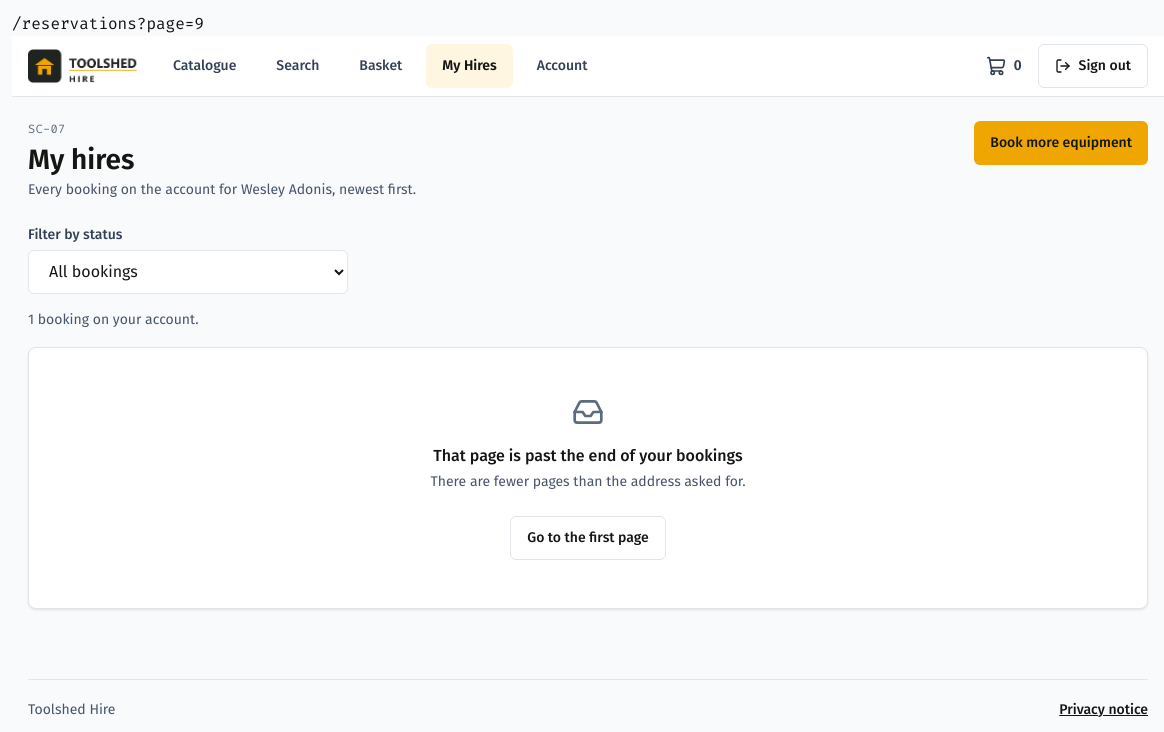
paging › offers the first page when the address asks for one past the end
Expected: the text "That page is past the end of your bookings" is shown, [433,444,743,468]
What coordinates should you click on to do the following:
click the button "Go to the first page"
I would click on:
 (588, 538)
Its box is [510,516,666,560].
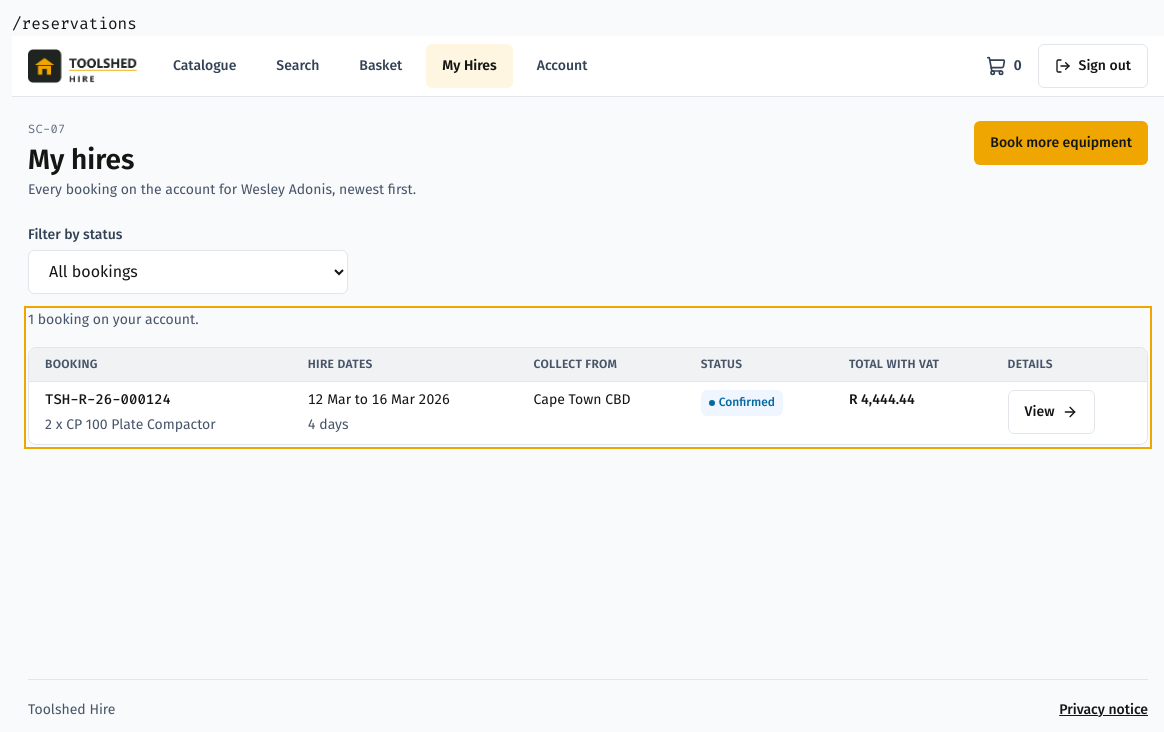
Expected: the text with test id "current-address" reads "/reservations", [12,13,137,34]
Result: the text "TSH-R-26-000124" is shown at [45,390,171,409]
